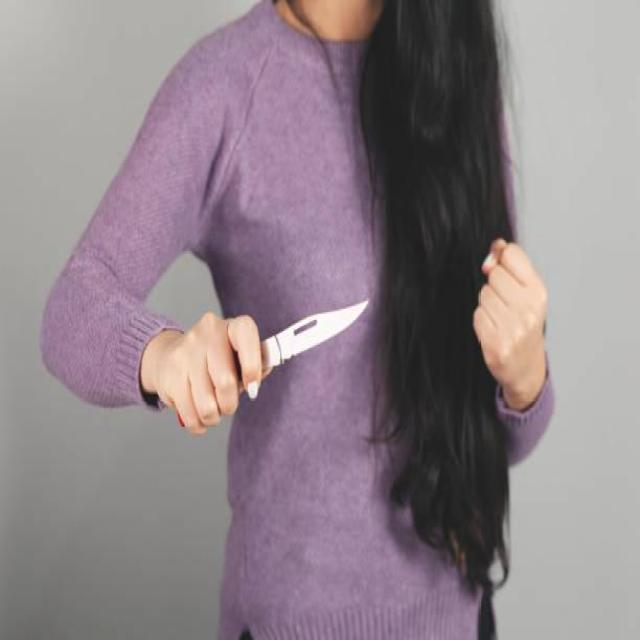faca: (150, 292, 376, 439)
